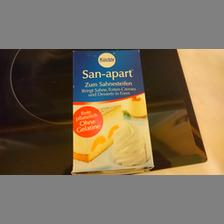Kuchen: (71, 48, 153, 172)
